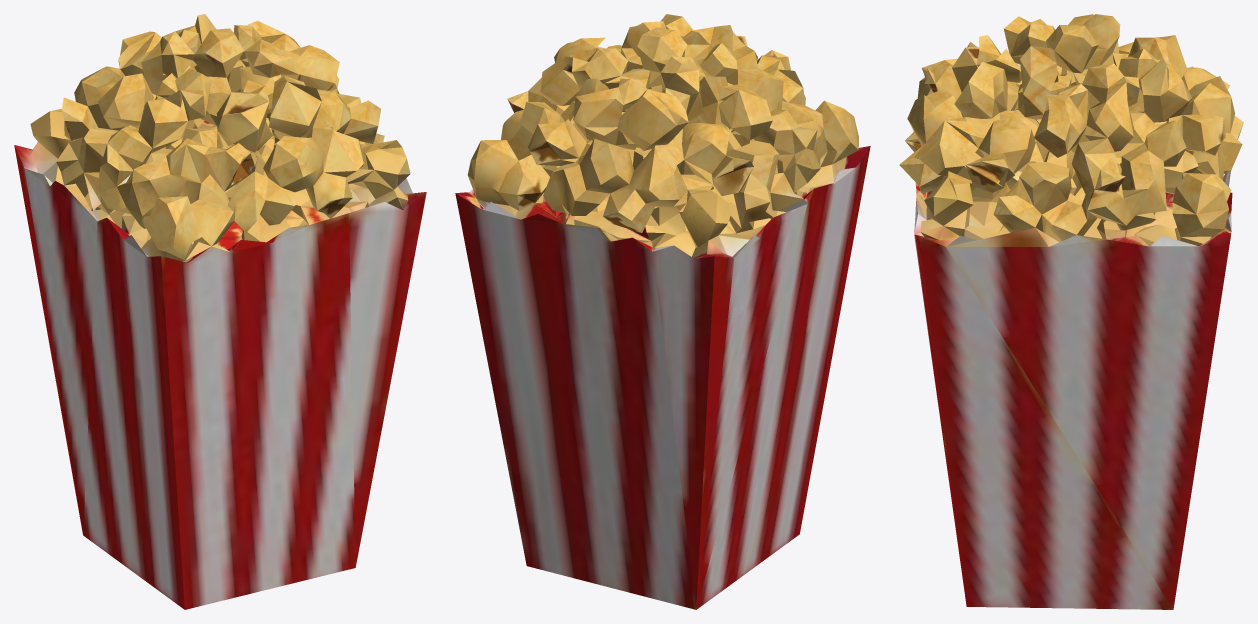
Rendered from popcorn_box.glb.
3 views of the same model, side by side, from view 1: azimuth 30°, elevation 25°; view 2: azimuth 150°, elevation 25°; view 3: azimuth 270°, elevation 25° (orthographic). The views are drawn at different scales.
Visible parts, largest first — view 1: Mesh_0; view 2: Mesh_0; view 3: Mesh_0.
Part boxes in pixels (<box>): Mesh_0: <box>14,14,426,609</box>; Mesh_0: <box>455,14,870,609</box>; Mesh_0: <box>899,14,1243,609</box>.
Size of the model in its own units: 0.1095 by 0.2 by 0.116.
Materials: 1 (1 with a texture image).
